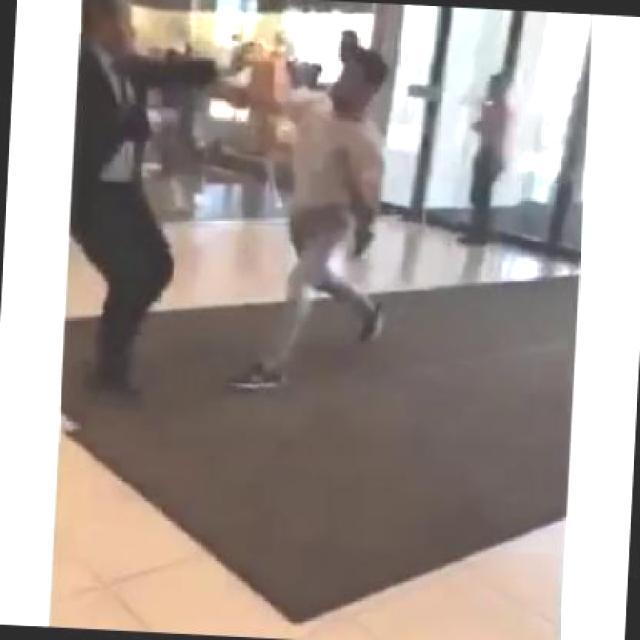fight: (63, 27, 394, 404)
